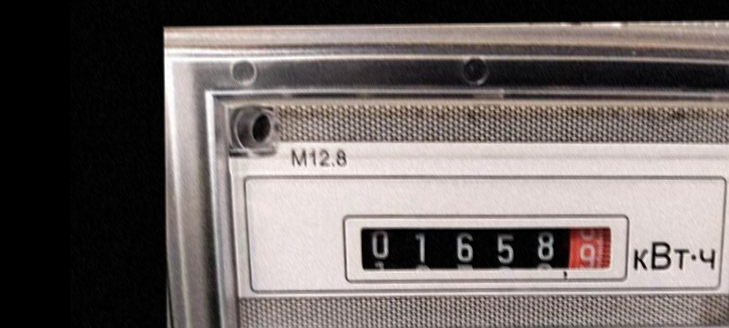0: (370, 228, 390, 258)
1: (413, 231, 430, 263)
5: (495, 232, 516, 263)
6: (455, 229, 475, 262)
8: (536, 228, 556, 261)
9: (576, 242, 597, 270)
screen: (334, 203, 634, 290)
